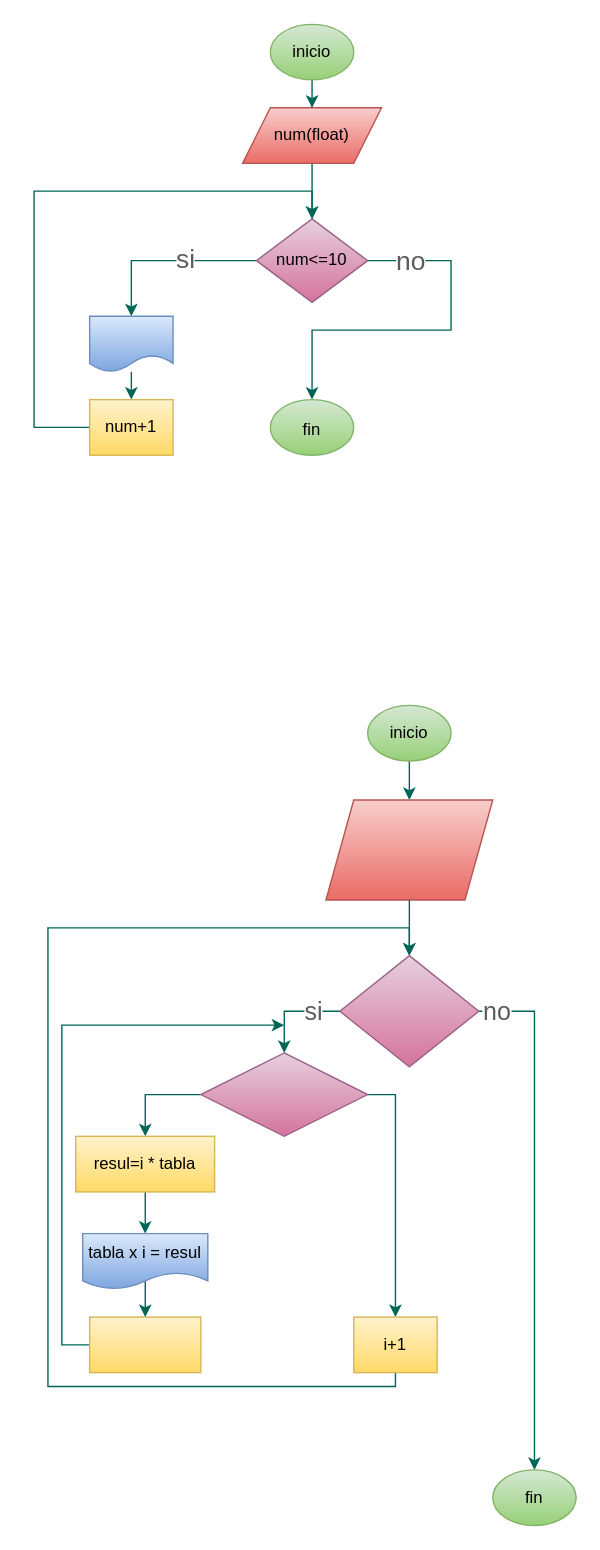
Image size: 600x1550. Some labels were removed from this diagram. The centre of each missing label's shape, as x and y in pixels:
i<=10: point (408, 1010)
num: point (130, 343)
resul(int) contador(i) tabla(int): point (409, 849)
tabla + 1: point (144, 1344)
tabla<=10: point (283, 1094)
